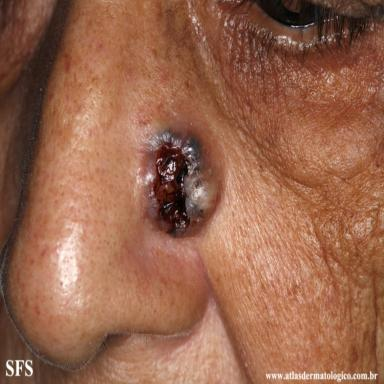basal-cell-carcinoma: (139, 112, 223, 238)
